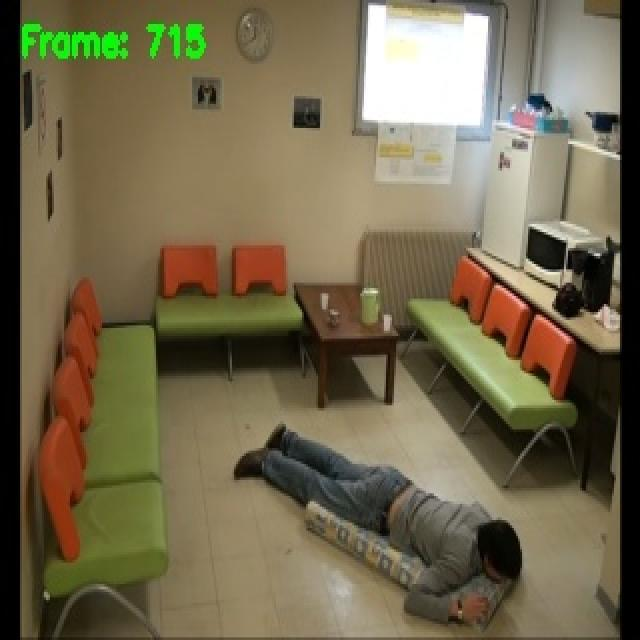fall: (228, 415, 526, 627)
